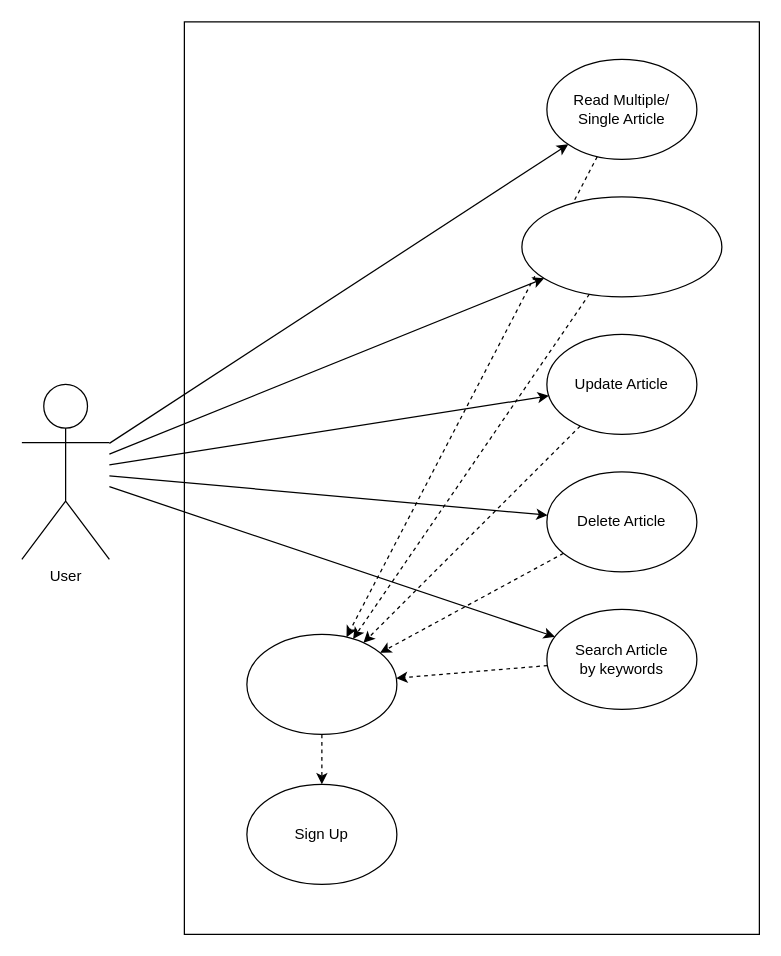
This 781x956 diagram has some shape labels left out. The box of each missing label's shape, as (x1, y1, x2, y2) in pixels:
Authenticate: (246, 633, 397, 734)
Create Article associated with user: (521, 196, 722, 297)
